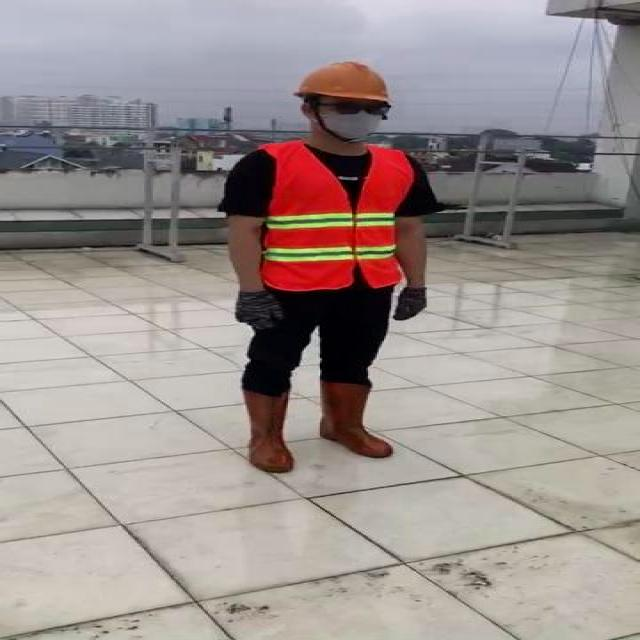boots: (316, 381, 394, 460), (242, 390, 298, 473)
face_mask: (317, 98, 392, 140)
glasses: (325, 100, 395, 120)
hand_glove: (228, 290, 286, 332), (395, 288, 430, 323)
head_helmet: (286, 58, 402, 105)
person: (207, 64, 442, 478)
vest: (260, 138, 416, 290)
